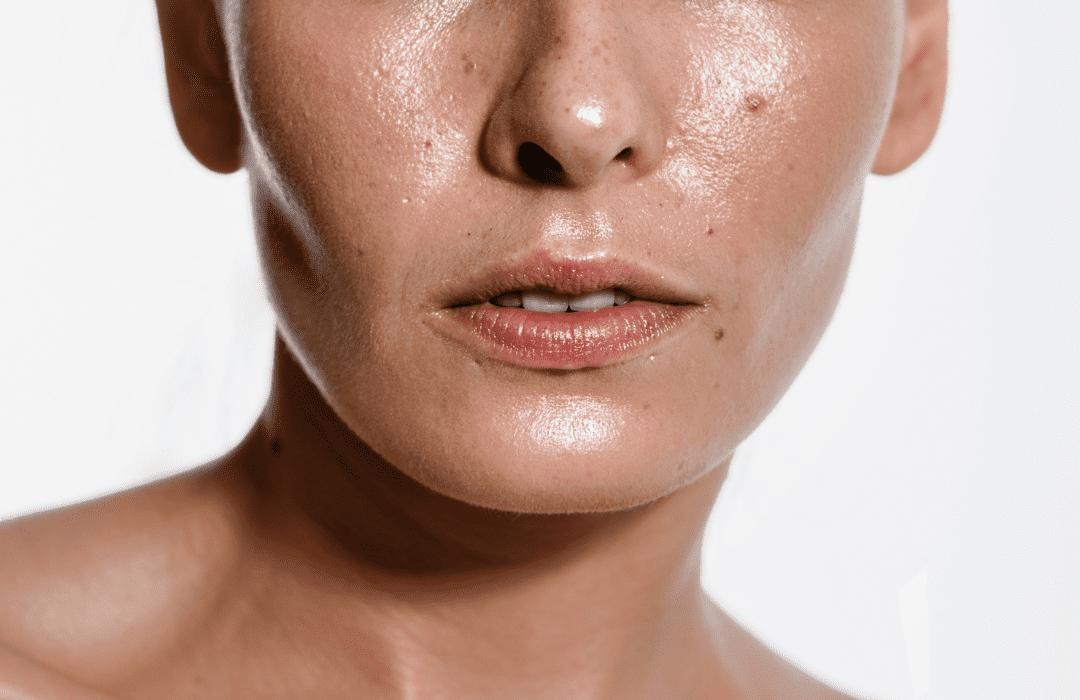Oily-Skin: (652, 13, 860, 293), (257, 0, 476, 264), (392, 375, 697, 496)
